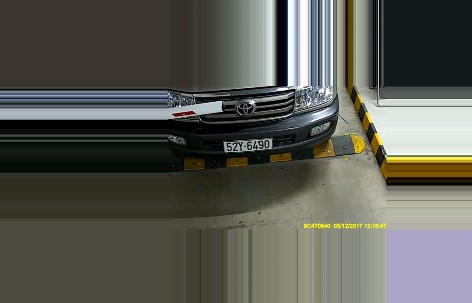plate: (220, 136, 273, 153)
